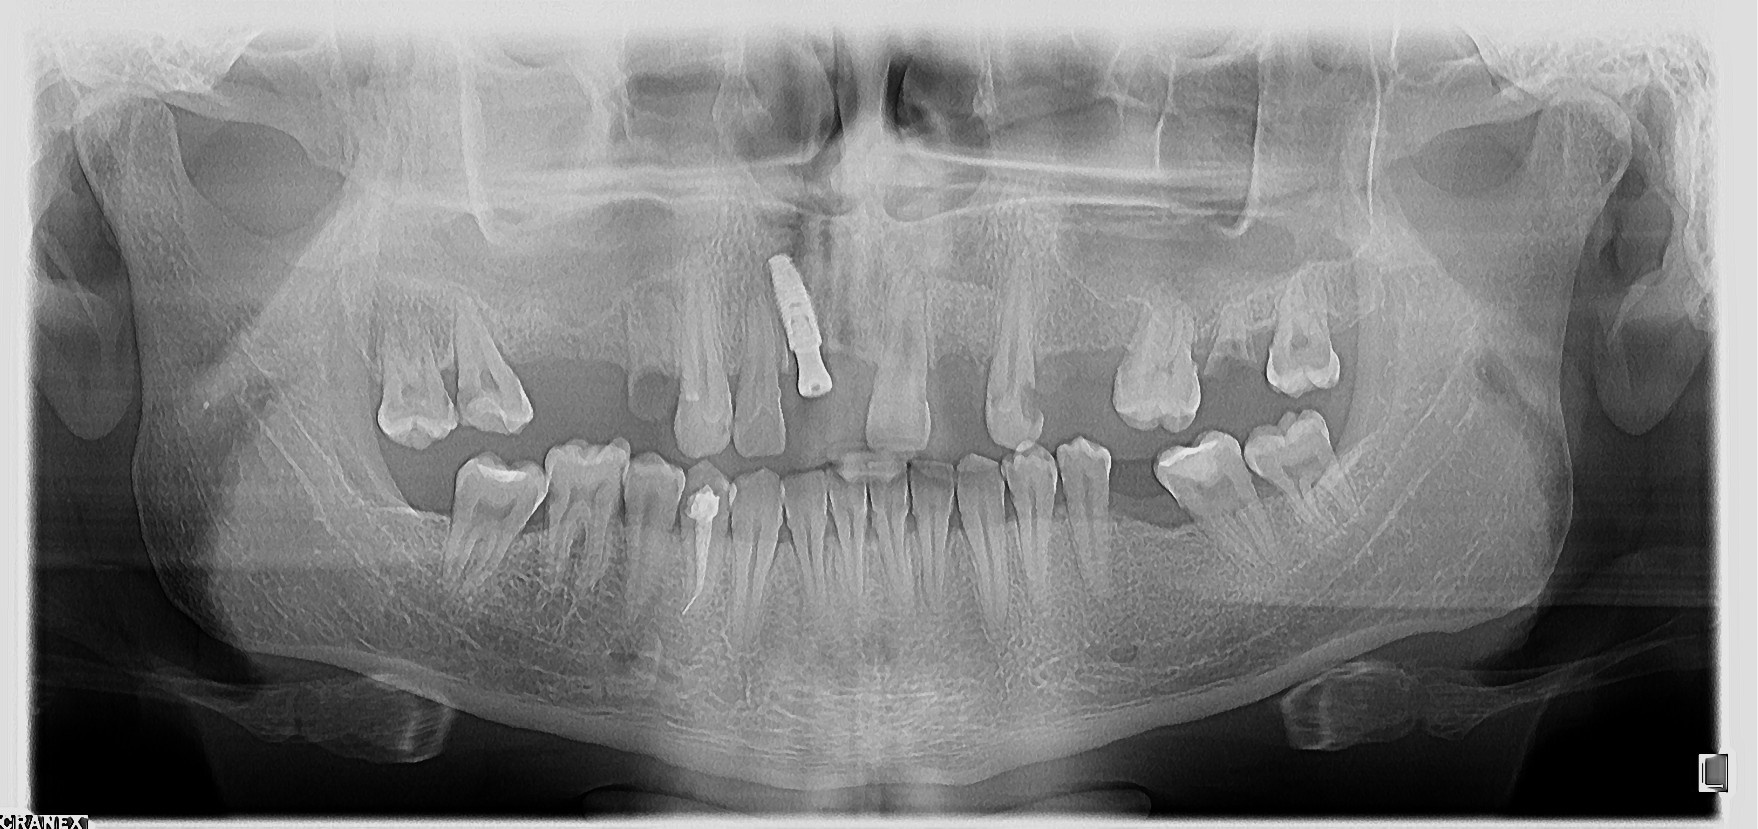CAR: (622, 369, 683, 422), (1007, 372, 1056, 432), (455, 367, 491, 416), (539, 473, 566, 515), (432, 385, 452, 406)
END: (674, 522, 720, 624)
IMP: (757, 249, 845, 400)
OBT: (1157, 430, 1224, 486), (473, 449, 536, 496), (679, 482, 724, 524)
ROT: (1203, 304, 1253, 376)
